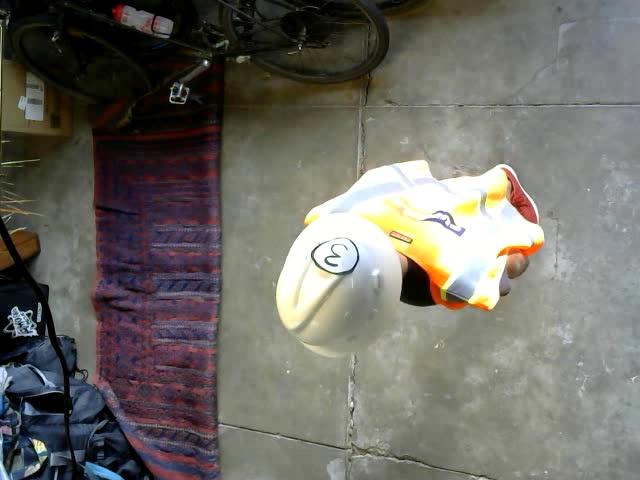three: (310, 234, 358, 274)
